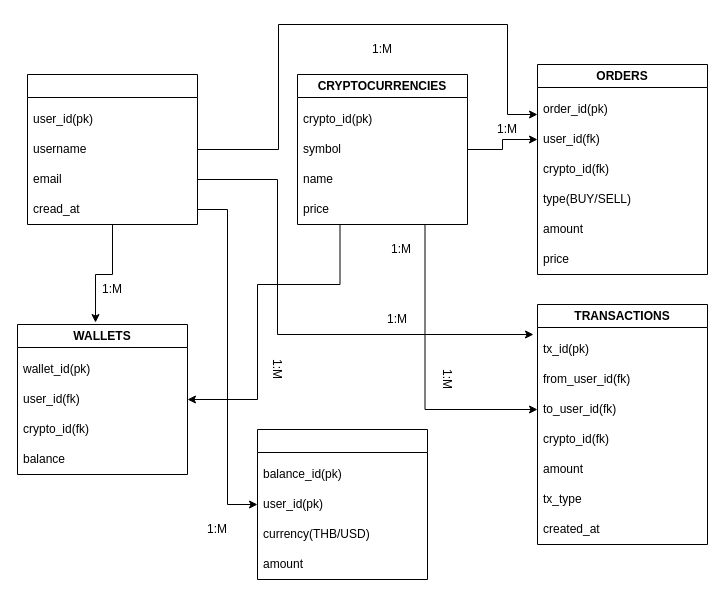
The diagram is 725 pixels wide and 597 high, and some of its shapes have lost their labels. Here are the shapes that lost their labels. From the top down, the box of each, then its label:
(26, 74, 198, 224): USERS
(256, 428, 428, 580): FIAT_BALANCES
